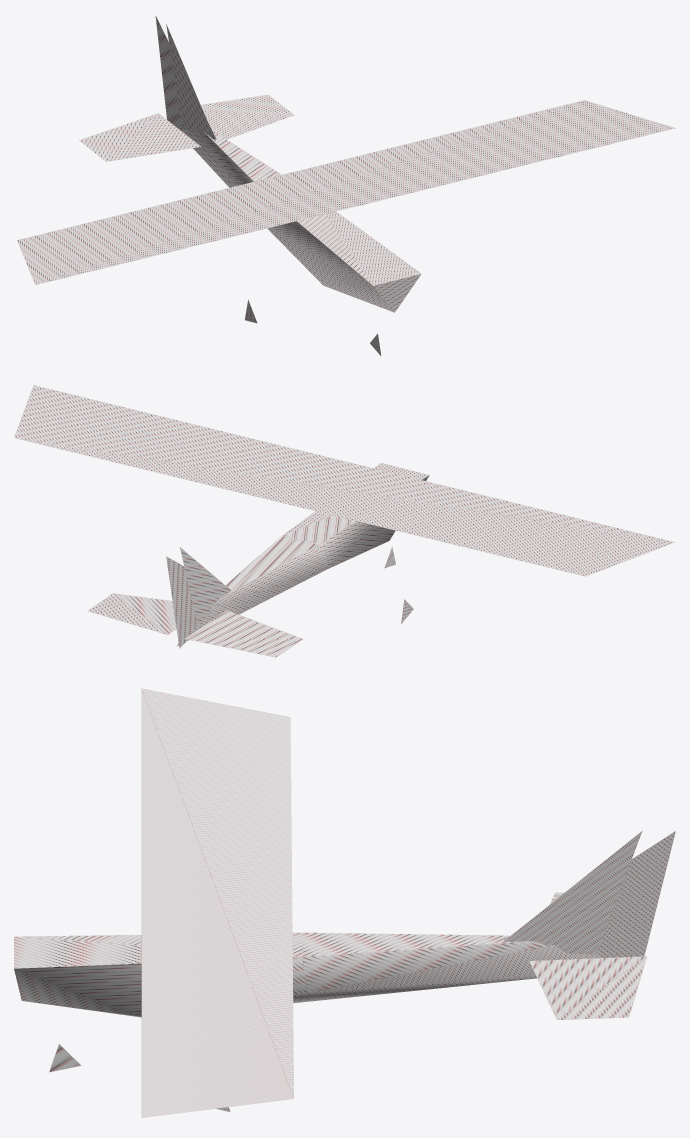
The picture shows the model from 3 angles, top to bottom: view 1: azimuth 30°, elevation 25°; view 2: azimuth 150°, elevation 25°; view 3: azimuth 270°, elevation 25°; orthographic projection. The views are drawn at different scales.
Visible parts, largest first — view 1: fuselage; view 2: fuselage; view 3: fuselage.
Boxes of the visible parts, box(x1,y1,x2,y2) form: fuselage: box(17, 16, 675, 355); fuselage: box(14, 385, 674, 657); fuselage: box(14, 688, 675, 1117).
Bounding box in the file's own units: 10.32 × 2.7 × 6.69.
